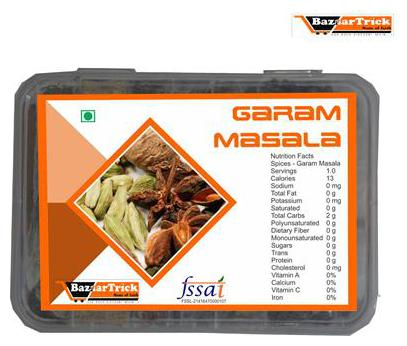fssai: (177, 275, 226, 298)
